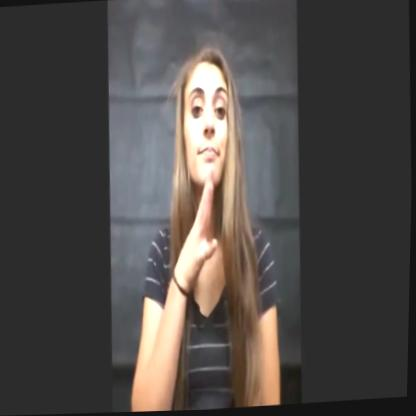Talk: (158, 50, 257, 291)
